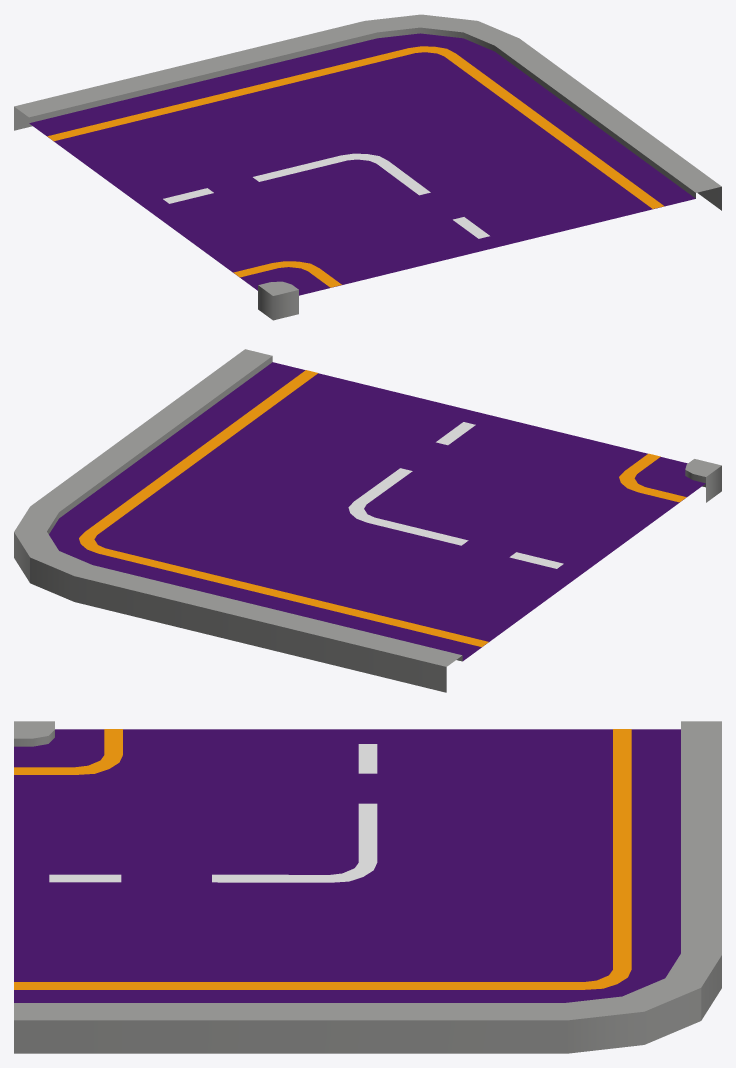
File: Road_C_9.fbx
The picture shows the model from 3 angles, top to bottom: view 1: azimuth 30°, elevation 25°; view 2: azimuth 150°, elevation 25°; view 3: azimuth 270°, elevation 25°; orthographic projection. The views are drawn at different scales.
Parts seen in each view (by area): view 1: Road_C_9; view 2: Road_C_9; view 3: Road_C_9.
Boxes of the visible parts, x1,y1,x2,y2 form: Road_C_9: [14, 14, 721, 320]; Road_C_9: [14, 349, 721, 692]; Road_C_9: [14, 721, 721, 1053].
Bounding box in the file's own units: 800 × 41.48 × 800.
